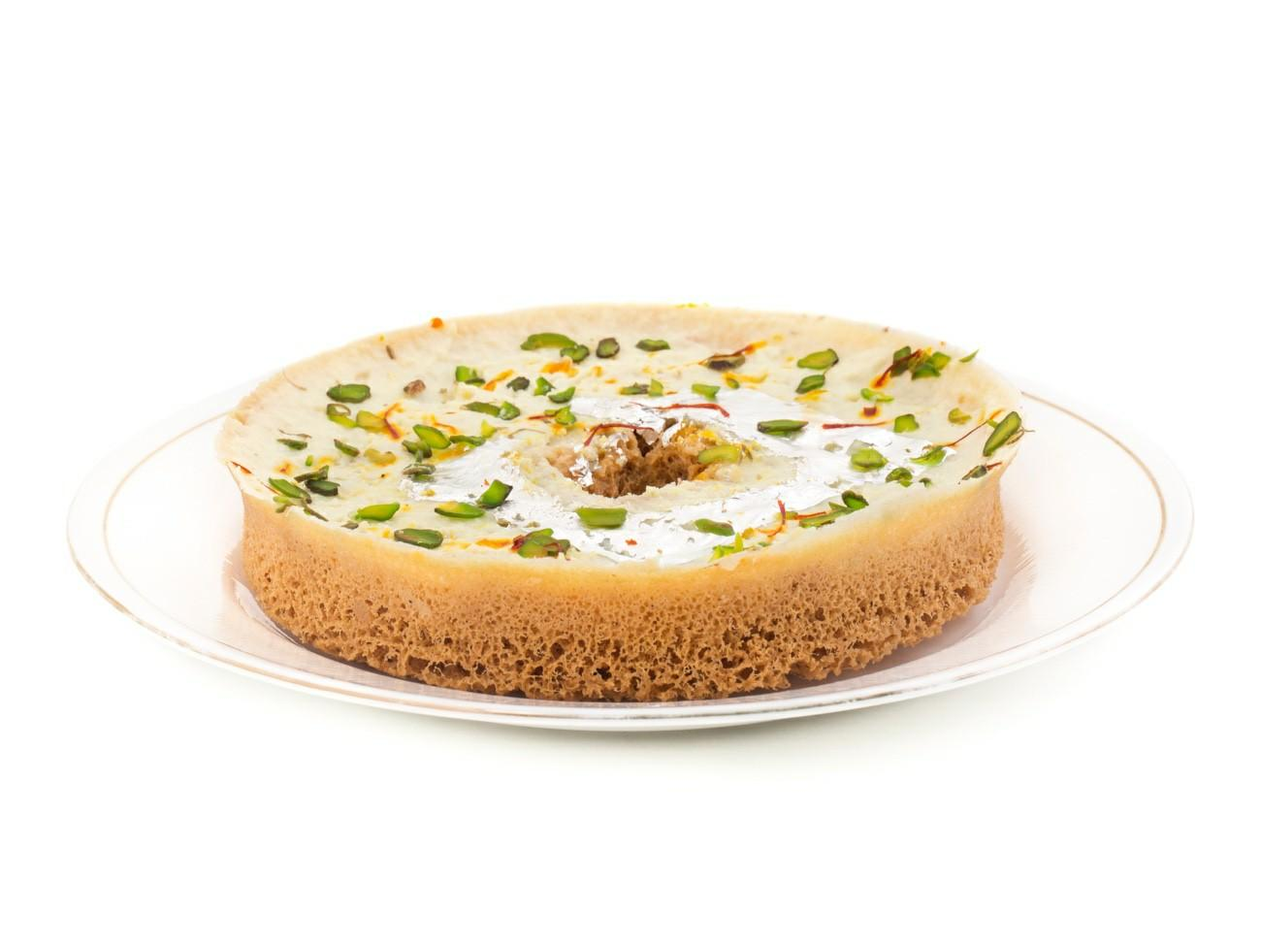Ghevar: (222, 303, 1024, 699)
